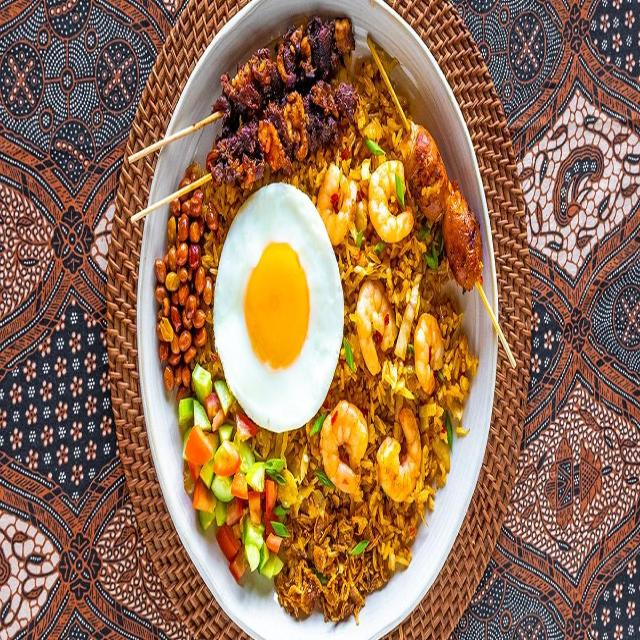Nasi Goreng: (215, 117, 466, 630)
